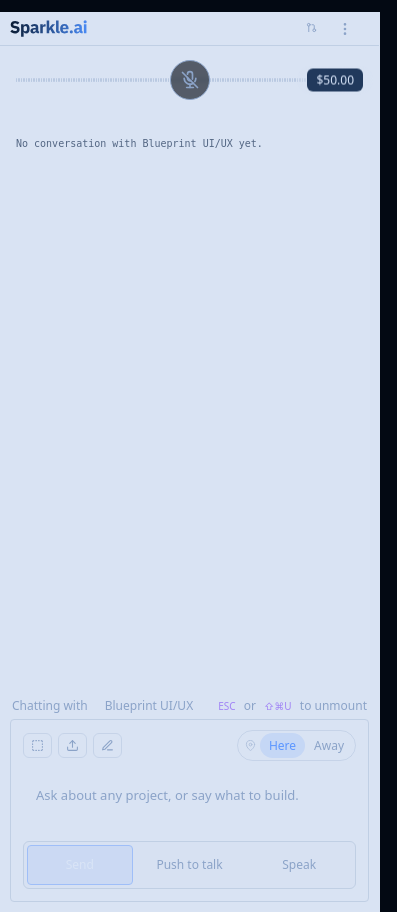
it: a lint finding is not swallowed by a mounted column › says what the linter caught, in the same words the inline mark uses
In the text box named "Message": [190, 804] box left=23, top=775, right=356, bottom=833, type "spawn a worker"
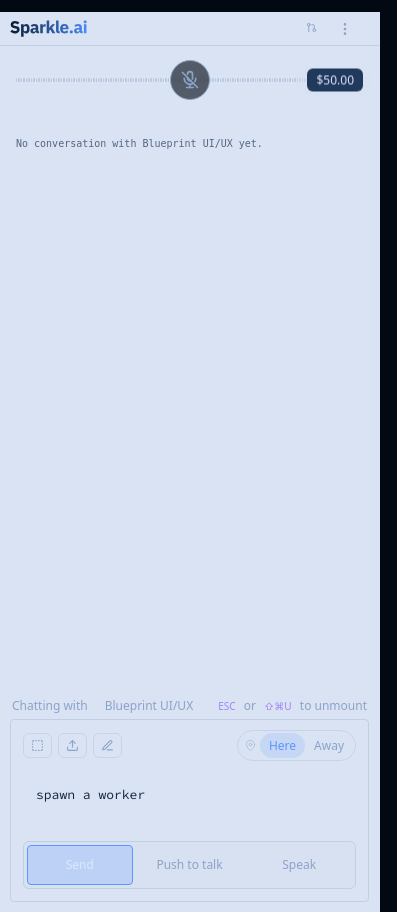
Click the button "Send": [80, 865] box left=27, top=845, right=133, bottom=885
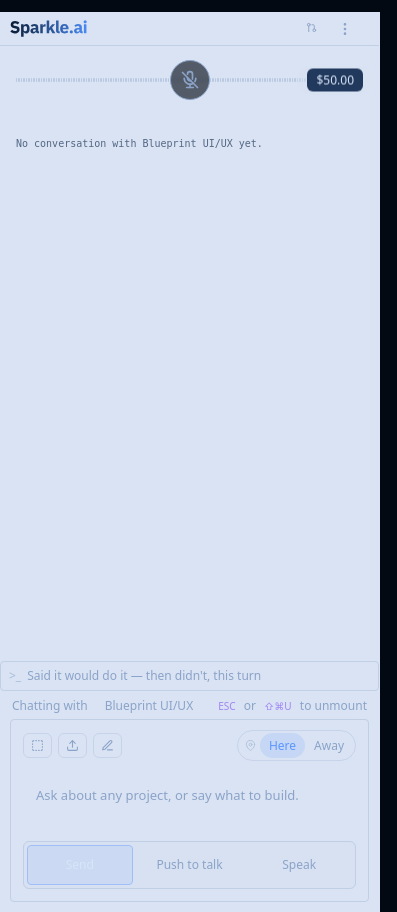
expect the message ">_ Said it would do it — then didn't, this turn" is shown: met, box left=0, top=661, right=379, bottom=691
expect the message with test id "mounted-notice" shows "Said it would do it": met, box left=27, top=667, right=261, bottom=684
